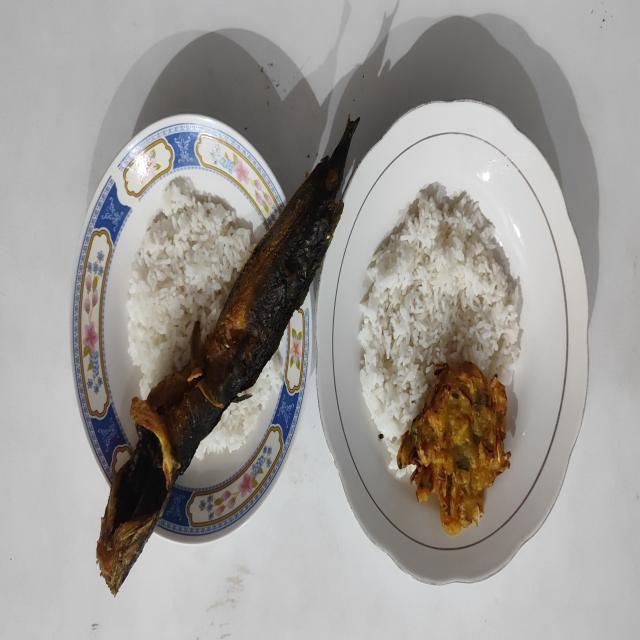nasi_putih: (358, 183, 522, 456), (126, 177, 259, 399), (198, 352, 280, 460)
